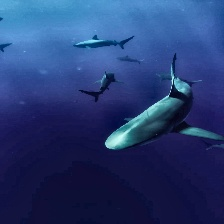shark: (104, 53, 213, 150), (78, 71, 124, 103), (73, 34, 135, 50), (0, 17, 13, 53)
